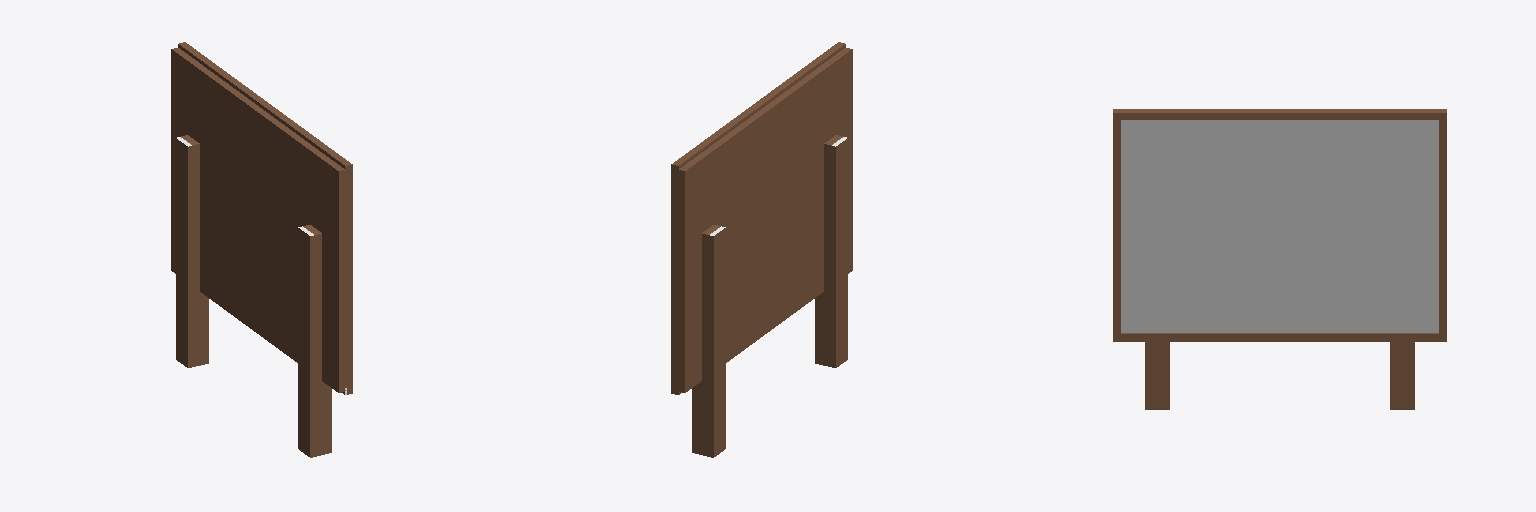
3 renders of one model, left to right at view 1: azimuth 30°, elevation 25°; view 2: azimuth 150°, elevation 25°; view 3: azimuth 270°, elevation 25°, orthographic.
Visible parts, largest first — view 1: IMG_1524; view 2: IMG_1524; view 3: IMG_1524.
Part boxes in pixels (x1,y1,x2,y2): IMG_1524: (171, 42, 352, 457); IMG_1524: (671, 42, 852, 457); IMG_1524: (1113, 109, 1446, 409).
Size of the model in its own units: 0.73 by 8.1 by 8.2.
2 materials, 1 textured.